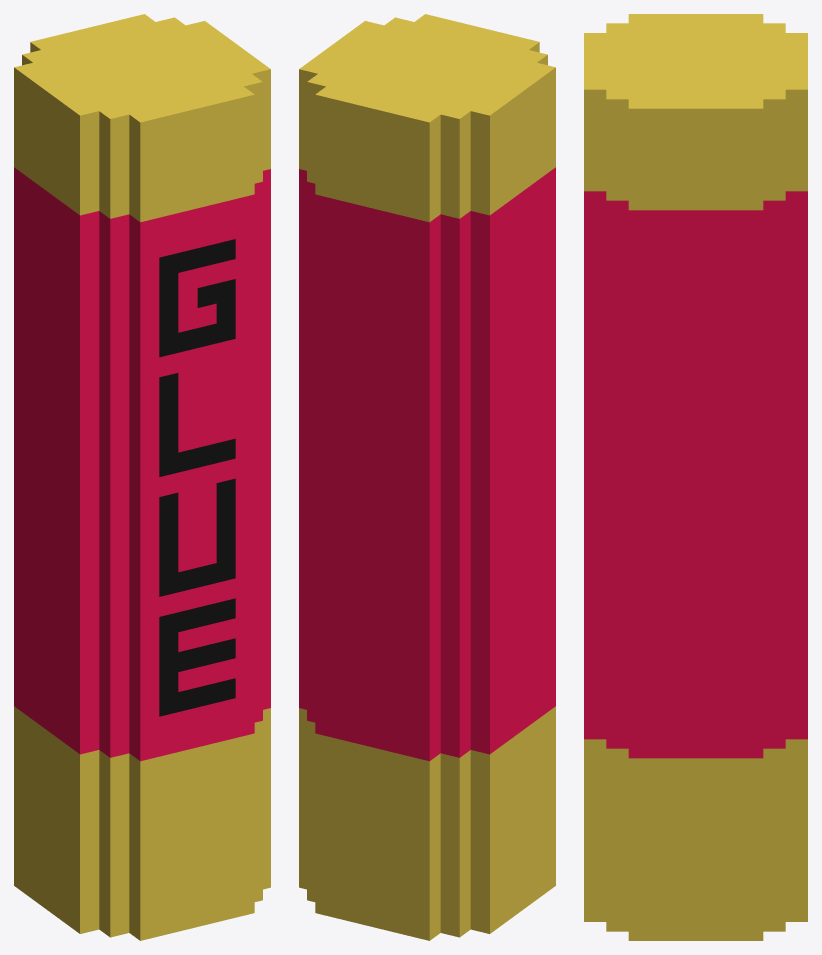
Rendered from Glue(v1.2.0).obj.
3 views of the same model, side by side, from view 1: azimuth 30°, elevation 25°; view 2: azimuth 150°, elevation 25°; view 3: azimuth 270°, elevation 25° (orthographic).
Size of the model in its own units: 1 by 4.1 by 1.
1 material, 1 textured.
